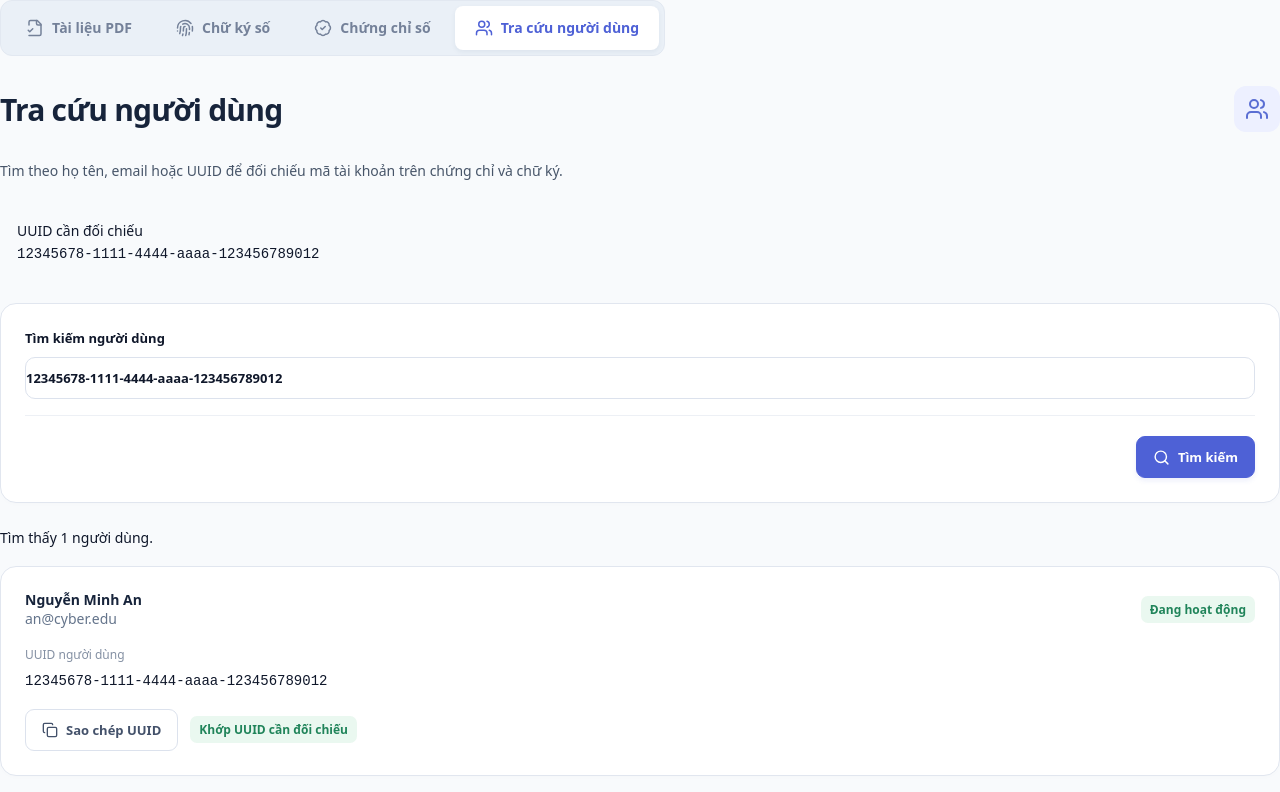
it: looks up the UUID from the certificate link and compares it with a name search
The image size is (1280, 792).
Expected: the text "Khớp UUID cần đối chiếu" is shown, [190,716,357,743]
Replace the text in the search field labelled "Tìm kiếm người dùng" with "another person". click: coordinates (640, 378)
box: [25,357,1255,399]
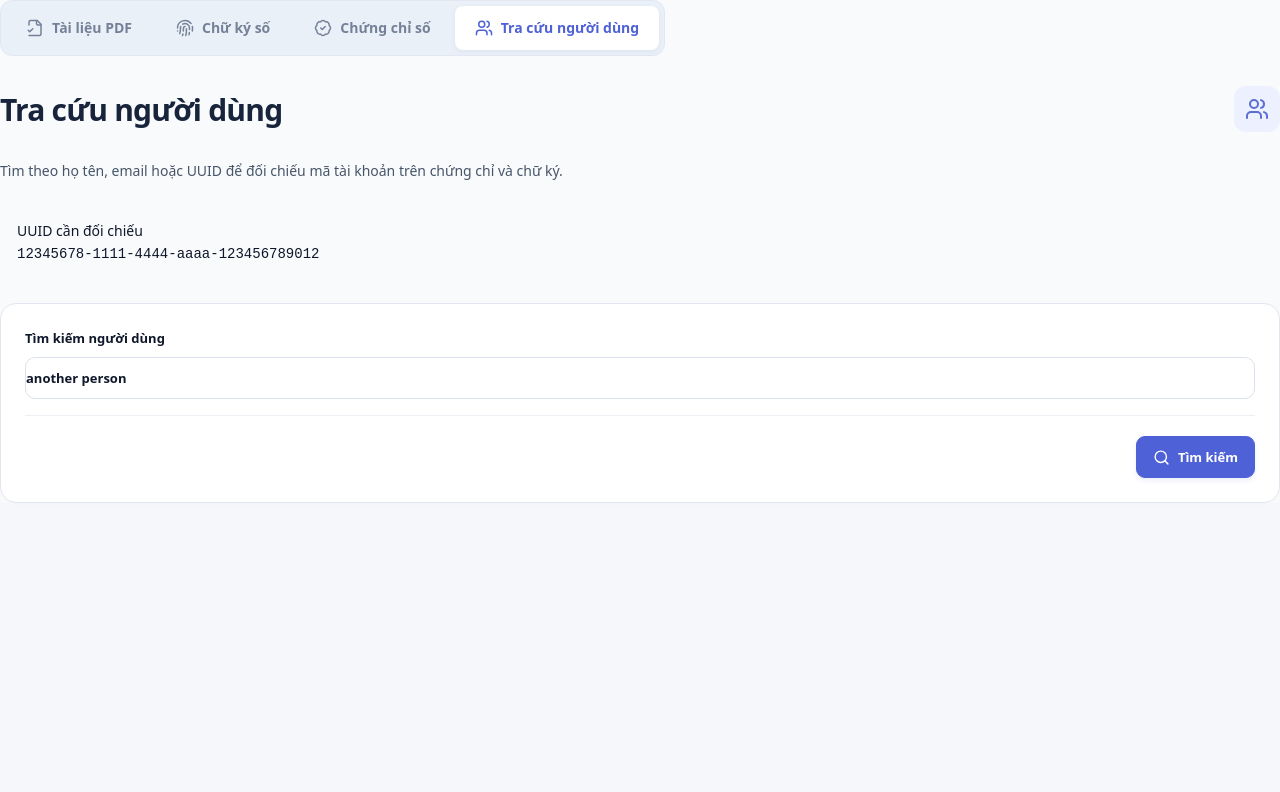
Click the button "Tìm kiếm". click: coordinates (1195, 457)
box: [1136,436,1255,478]
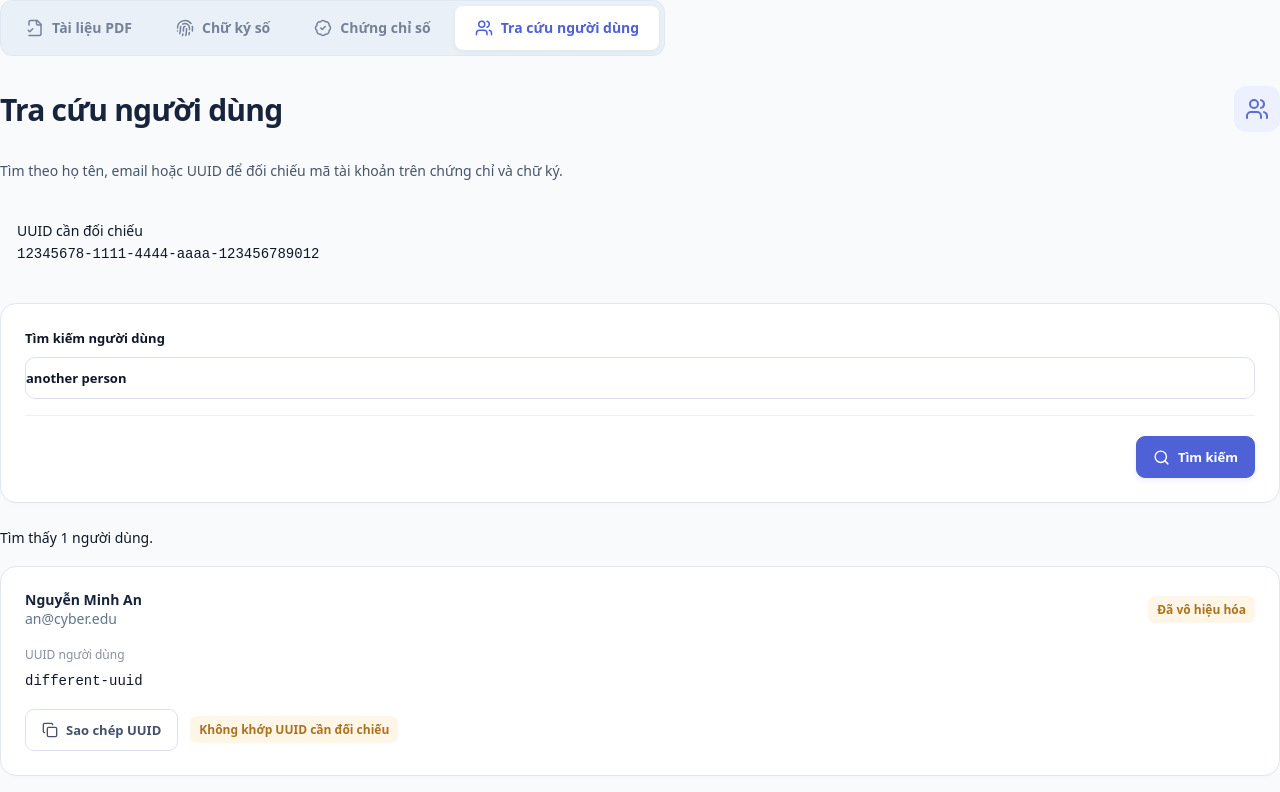
Expected: the text "Không khớp UUID cần đối chiếu" is shown, [190,716,398,743]
Expected: the text "Đã vô hiệu hóa" is shown, [1148,596,1255,624]
